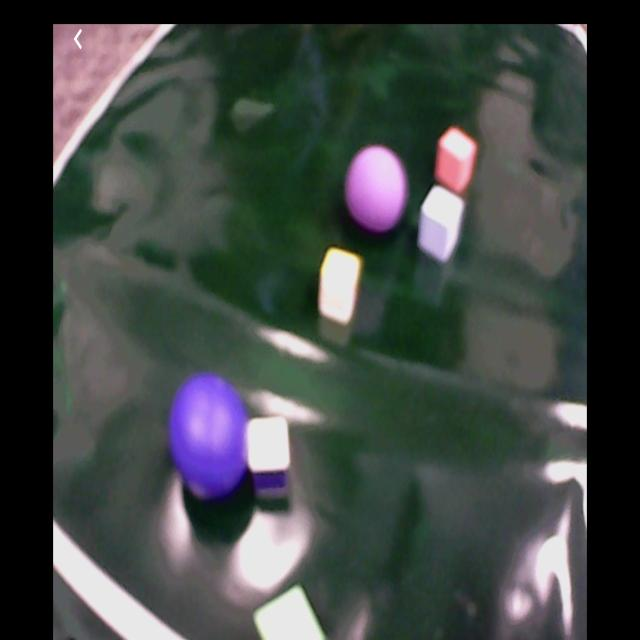ball: (172, 374, 248, 499), (346, 148, 409, 230)
